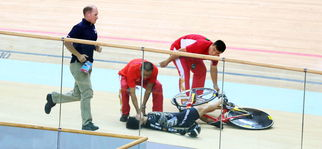fall: (124, 92, 231, 137)
